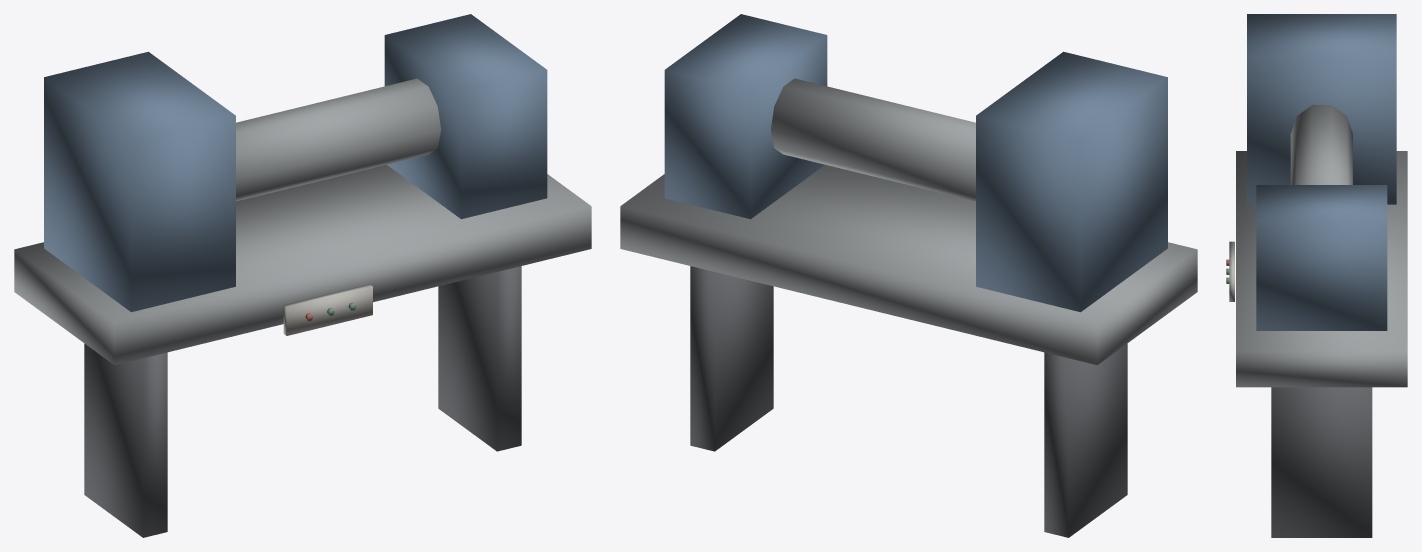
File: metal_lathe_silhouette__compact.glb
3 renders of one model, left to right at view 1: azimuth 30°, elevation 25°; view 2: azimuth 150°, elevation 25°; view 3: azimuth 270°, elevation 25°, orthographic. The views are drawn at different scales.
Visible parts, largest first — view 1: world; view 2: world; view 3: world.
Part boxes in pixels (x1,y1,x2,y2): world: (14,14,591,537); world: (620,14,1197,537); world: (1226,14,1407,537).
Size of the model in its own units: 1.3 by 1.08 by 0.4997.
